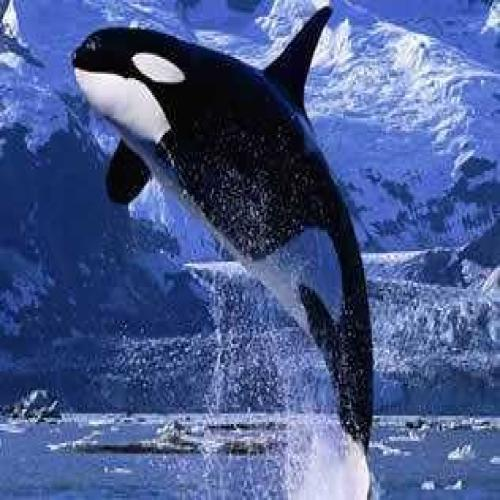killer_whale-endangered: (70, 7, 381, 322)
